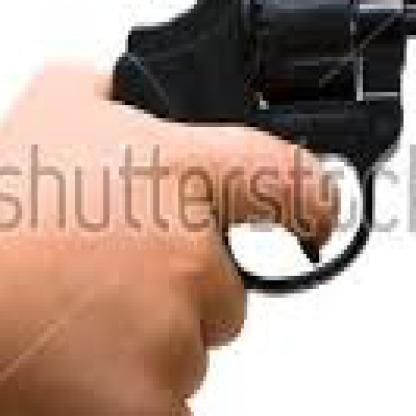gun: (72, 0, 413, 346)
